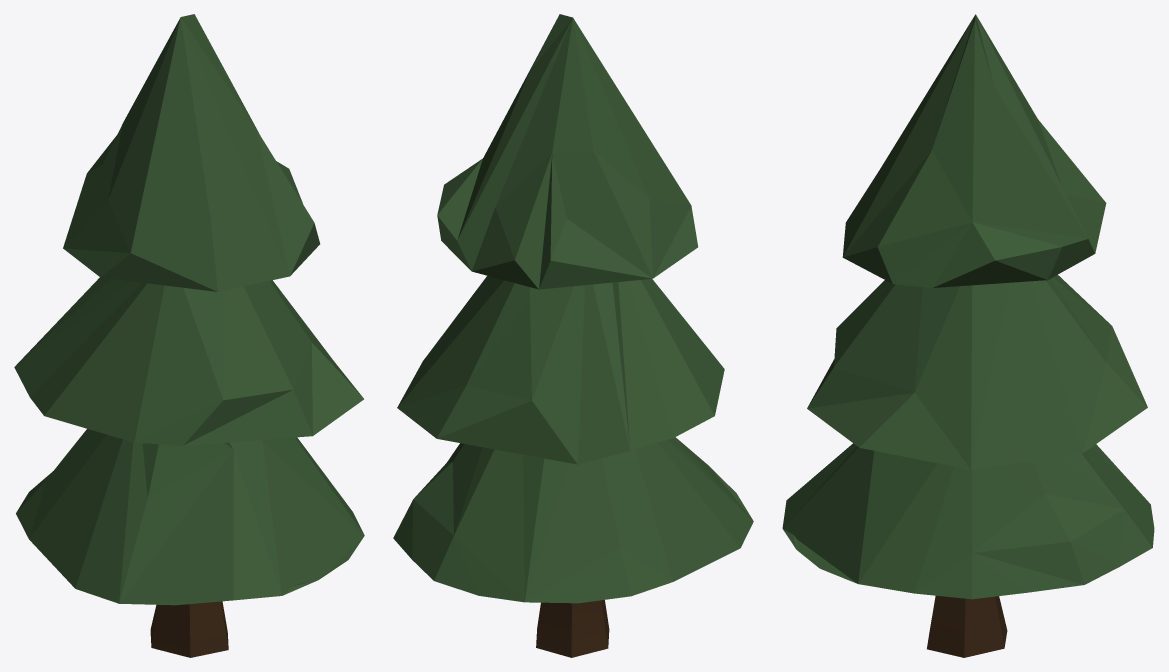
Rendered from arbol_verde_pino.fbx.
3 views of the same model, side by side, from view 1: azimuth 30°, elevation 25°; view 2: azimuth 150°, elevation 25°; view 3: azimuth 270°, elevation 25° (orthographic).
Visible parts, largest first — view 1: copa_arbol3, tronco3; view 2: copa_arbol3, tronco3; view 3: copa_arbol3, tronco3.
Part boxes in pixels (x1,y1,x2,y2): copa_arbol3: (14, 14, 364, 605); tronco3: (150, 601, 228, 657); copa_arbol3: (393, 14, 753, 603); tronco3: (536, 600, 609, 657); copa_arbol3: (782, 14, 1154, 599); tronco3: (927, 595, 1007, 657).
Bounding box in the file's own units: 9.85 × 20.14 × 10.89.
